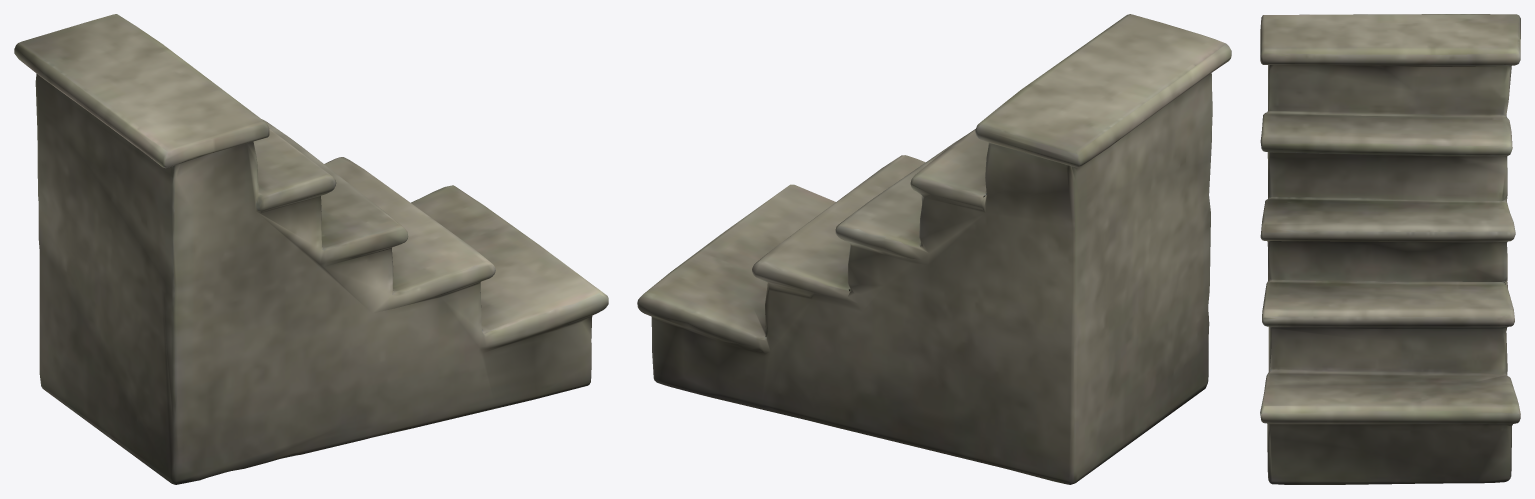
The model's file is old-limestone-steps-v001.glb.
The picture shows the model from 3 angles, left to right: view 1: azimuth 30°, elevation 25°; view 2: azimuth 150°, elevation 25°; view 3: azimuth 270°, elevation 25°; orthographic projection. The views are drawn at different scales.
Parts seen in each view (by area): view 1: old-limestone-steps; view 2: old-limestone-steps; view 3: old-limestone-steps.
Boxes of the visible parts, x1,y1,x2,y2 form: old-limestone-steps: [14, 14, 608, 484]; old-limestone-steps: [637, 14, 1231, 484]; old-limestone-steps: [1260, 14, 1520, 484].
Size of the model in its own units: 0.6237 by 0.4698 by 0.3694.
Materials: 1 (1 with a texture image).
